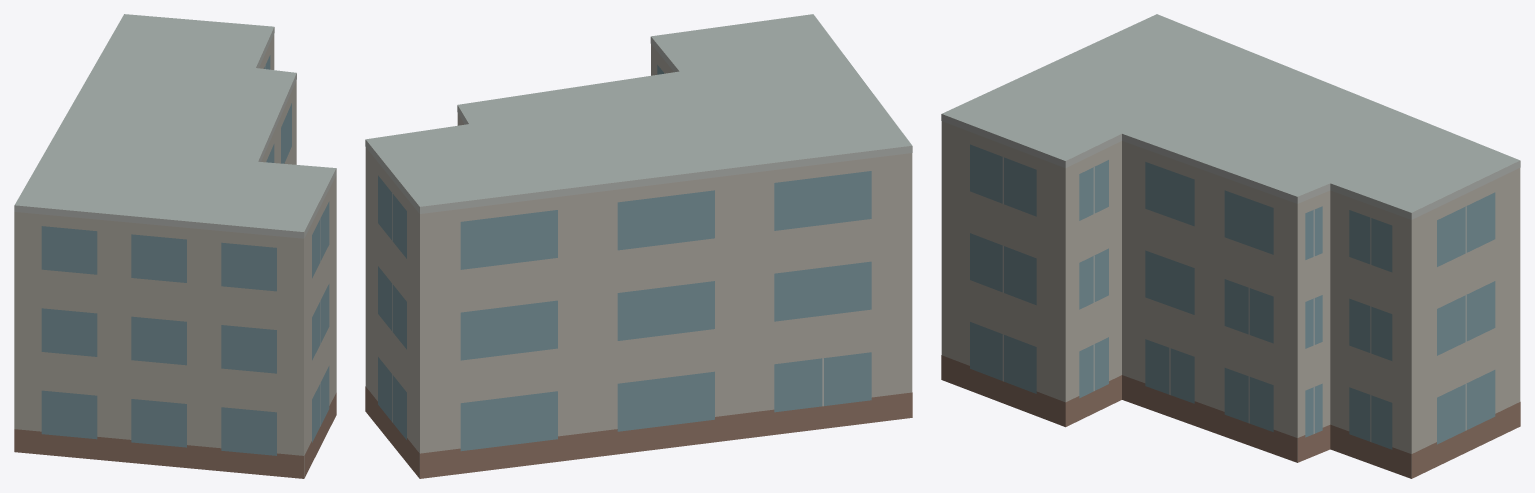
The model's file is survey-upis-32523408.glb.
3 views of the same model, side by side, from view 1: azimuth 30°, elevation 25°; view 2: azimuth 150°, elevation 25°; view 3: azimuth 270°, elevation 25° (orthographic). The views are drawn at different scales.
Visible parts, largest first — view 1: survey-upis-32523408.tmp; view 2: survey-upis-32523408.tmp; view 3: survey-upis-32523408.tmp.
Part boxes in pixels (x1=…): survey-upis-32523408.tmp: x1=14, y1=14, x2=336, y2=478; survey-upis-32523408.tmp: x1=365, y1=14, x2=912, y2=478; survey-upis-32523408.tmp: x1=941, y1=14, x2=1520, y2=478.
Size of the model in its own units: 14.68 by 9.15 by 18.06.
